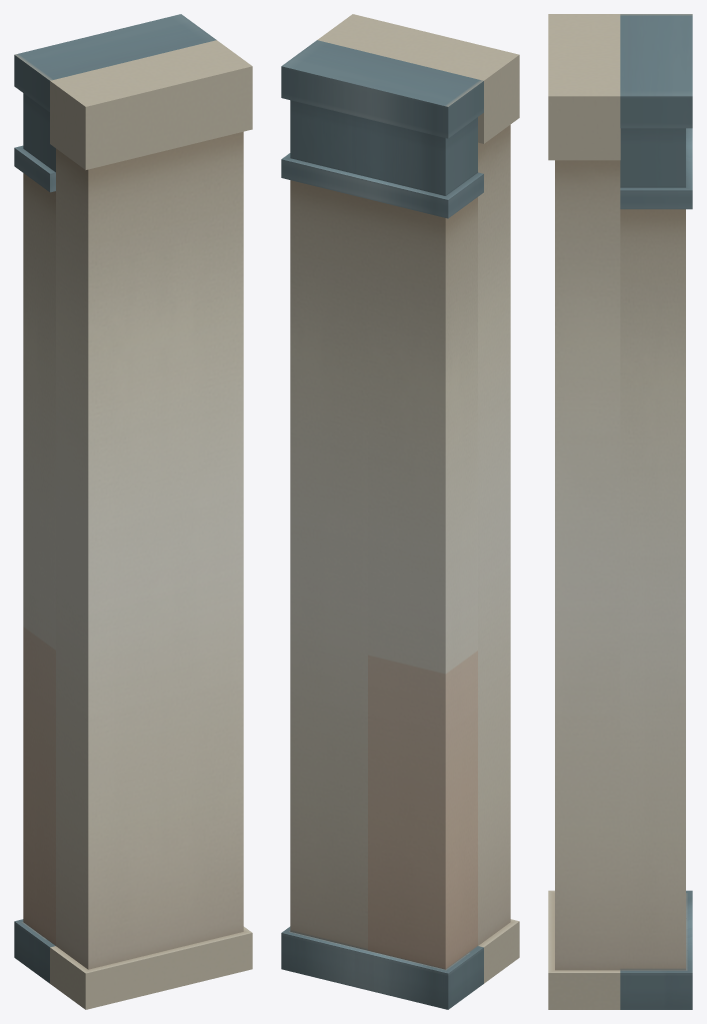
Rendered from SHW_Pillar_01_21.fbx.
3 views of the same model, side by side, from view 1: azimuth 30°, elevation 25°; view 2: azimuth 150°, elevation 25°; view 3: azimuth 270°, elevation 25° (orthographic).
Parts seen in each view (by area): view 1: shw_pillar_01_21; view 2: shw_pillar_01_21; view 3: shw_pillar_01_21.
Part boxes in pixels (left/top/right/bottom): shw_pillar_01_21: left=14, top=14, right=252, bottom=1009; shw_pillar_01_21: left=281, top=14, right=519, bottom=1009; shw_pillar_01_21: left=548, top=14, right=692, bottom=1009.
Bounding box in the file's own units: 58 × 300 × 43.
